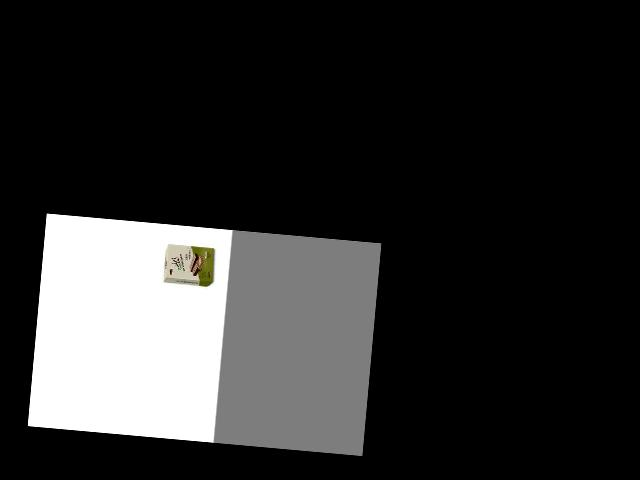chocolate: (161, 239, 218, 290)
